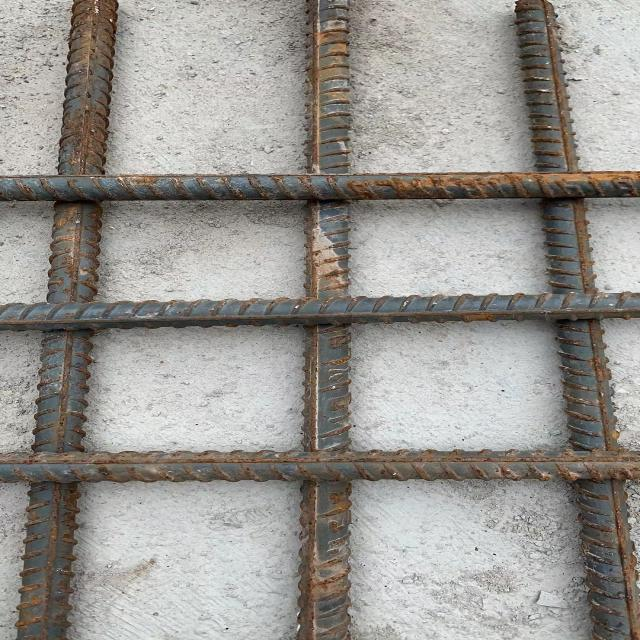ribbed bar: (506, 0, 638, 639), (13, 0, 121, 639), (291, 0, 352, 639), (0, 289, 638, 334), (0, 450, 639, 484), (0, 170, 639, 202)
